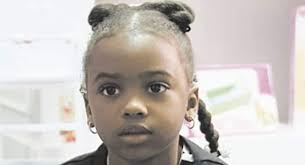person: (81, 1, 200, 165)
